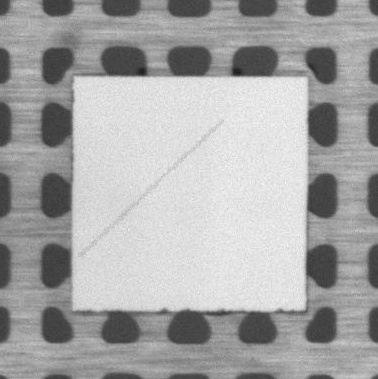DIE_CRACK: (81, 120, 222, 256)
